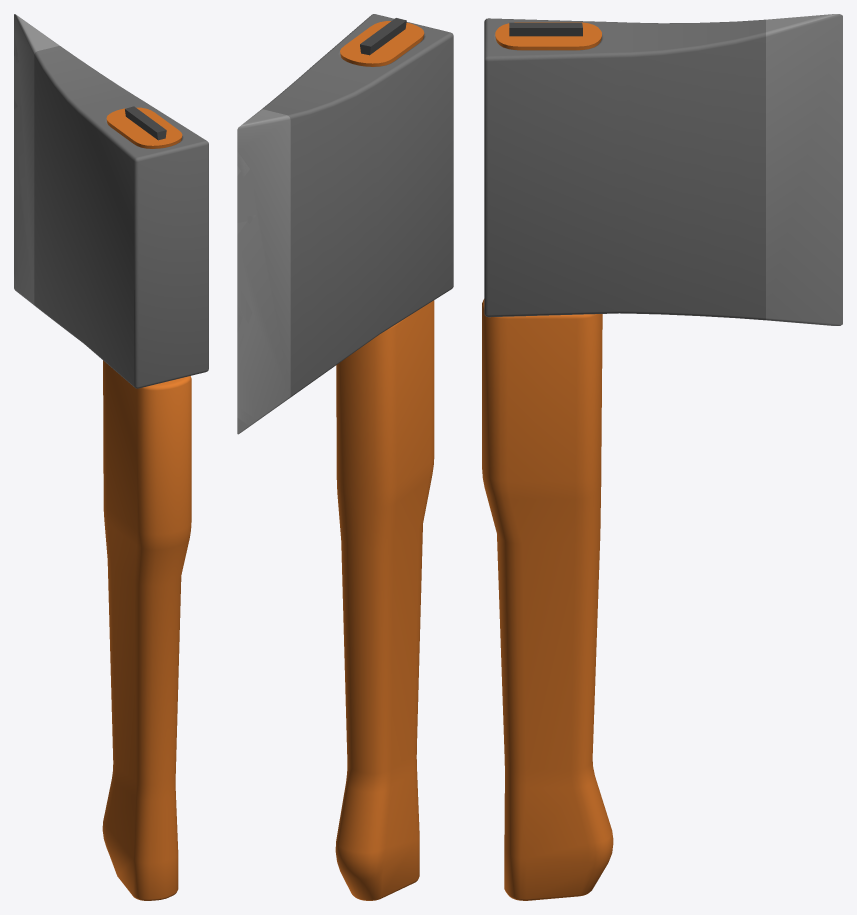
File: Axe's.fbx
3 renders of one model, left to right at view 1: azimuth 30°, elevation 25°; view 2: azimuth 150°, elevation 25°; view 3: azimuth 270°, elevation 25°, orthographic. The views are drawn at different scales.
Visible parts, largest first — view 1: SM_Axe_level4, SM_Axe_level3, SM_Axe_level2; view 2: SM_Axe_level4, SM_Axe_level2, SM_Axe_level1, SM_Axe_level5; view 3: SM_Axe_level1, SM_Axe_level2, SM_Axe_level5, SM_Axe_level3.
Boxes of the visible parts, x1,y1,x2,y2 form: SM_Axe_level4: [14, 14, 157, 898]; SM_Axe_level3: [14, 55, 208, 900]; SM_Axe_level2: [14, 14, 208, 806]; SM_Axe_level4: [237, 20, 453, 898]; SM_Axe_level2: [237, 14, 453, 861]; SM_Axe_level1: [237, 48, 451, 900]; SM_Axe_level5: [336, 45, 381, 882]; SM_Axe_level1: [485, 15, 842, 900]; SM_Axe_level2: [483, 14, 842, 899]; SM_Axe_level5: [500, 215, 625, 899]; SM_Axe_level3: [482, 21, 524, 898].
Size of the model in its own units: 6.57 by 65.72 by 24.51.
